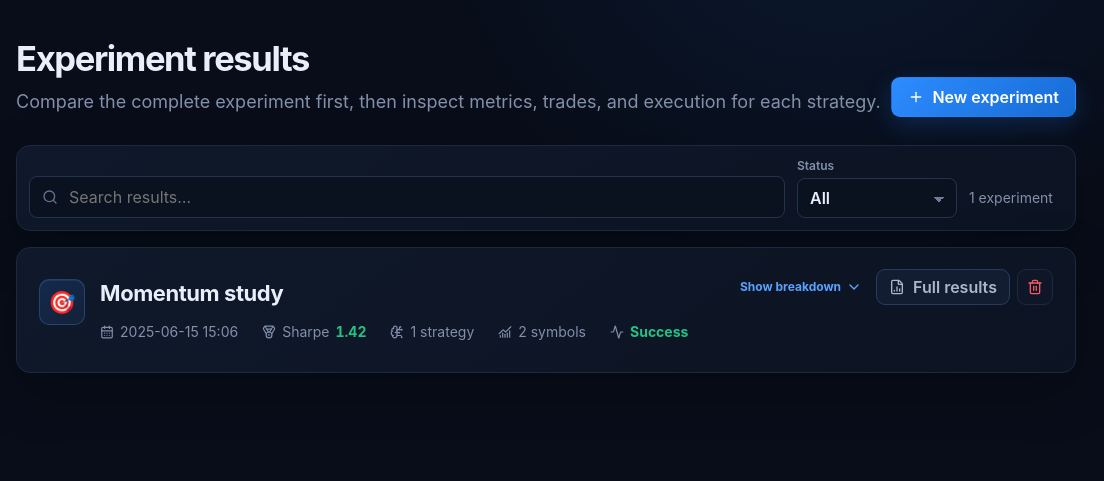
it: results page › shows a benchmark symbol without a duplicated benchmark label
This screenshot has width=1104, height=481.
Click the button with class "breakdown-toggle".
click(801, 287)  # box [733,270,869,304]
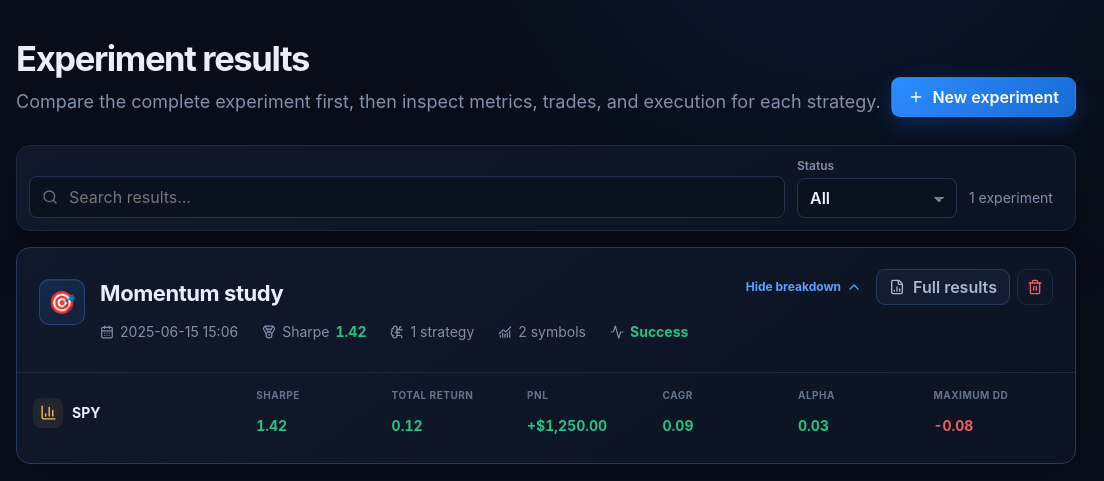
Result: the text "SPY" is shown at [72,404,101,421]
